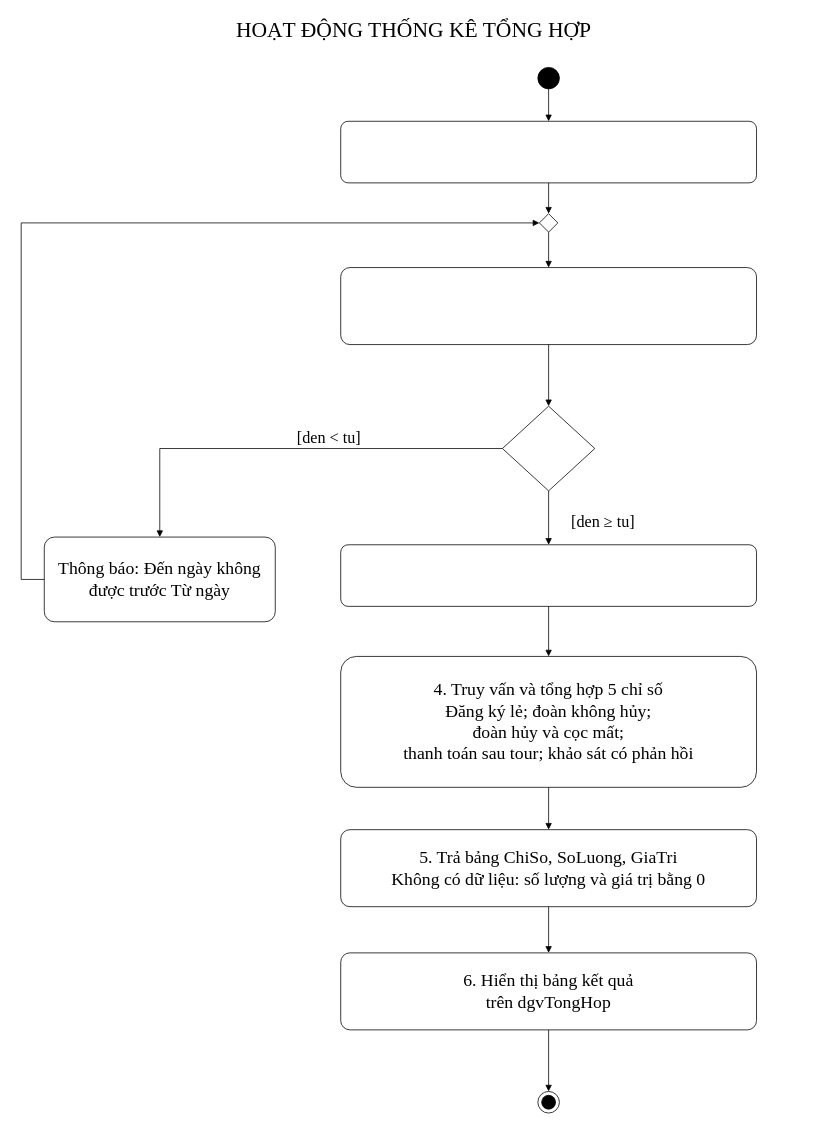
This 827x1127 diagram has some shape labels left out. Each missing label, with the centre of its shape:
"1. Mở tab Thống kê tổng hợp" goes at (548,152).
"2. Nhập Từ ngày và Đến ngày Nhấn Thống kê" goes at (548,306).
"3. Gọi TongHop(tu, den)" goes at (548,575).
